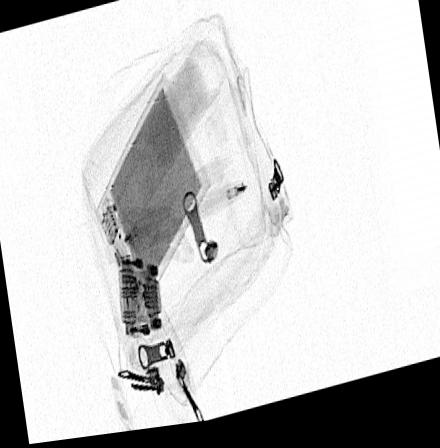Powerbank: (93, 76, 209, 317)
